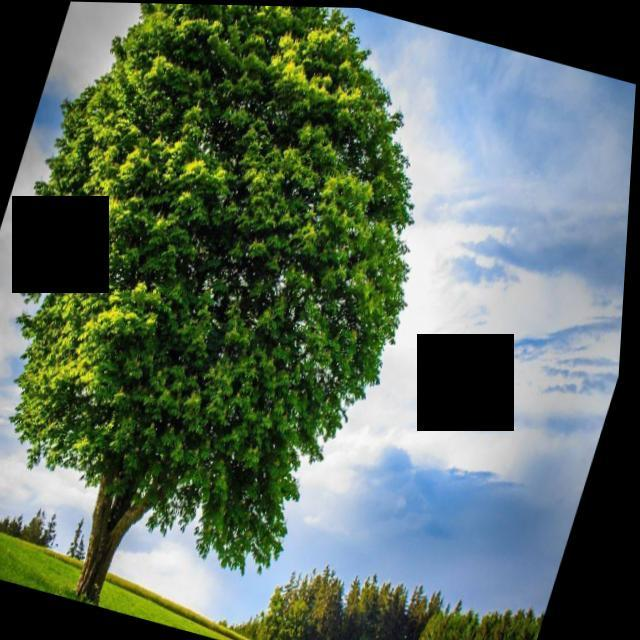Tree: (1, 1, 489, 640), (301, 562, 354, 640), (372, 570, 426, 640), (365, 574, 418, 640), (285, 569, 333, 640), (351, 573, 398, 640), (267, 576, 316, 640), (388, 583, 443, 640), (321, 575, 368, 640), (336, 578, 385, 640), (404, 584, 458, 640), (489, 601, 550, 640), (421, 598, 476, 640), (445, 601, 499, 640), (501, 601, 554, 640), (430, 601, 483, 640), (463, 606, 521, 640), (472, 611, 533, 640), (451, 610, 506, 640), (244, 602, 281, 639), (510, 608, 552, 640), (73, 521, 100, 567), (48, 507, 74, 548), (1, 512, 39, 538), (33, 506, 57, 543)
